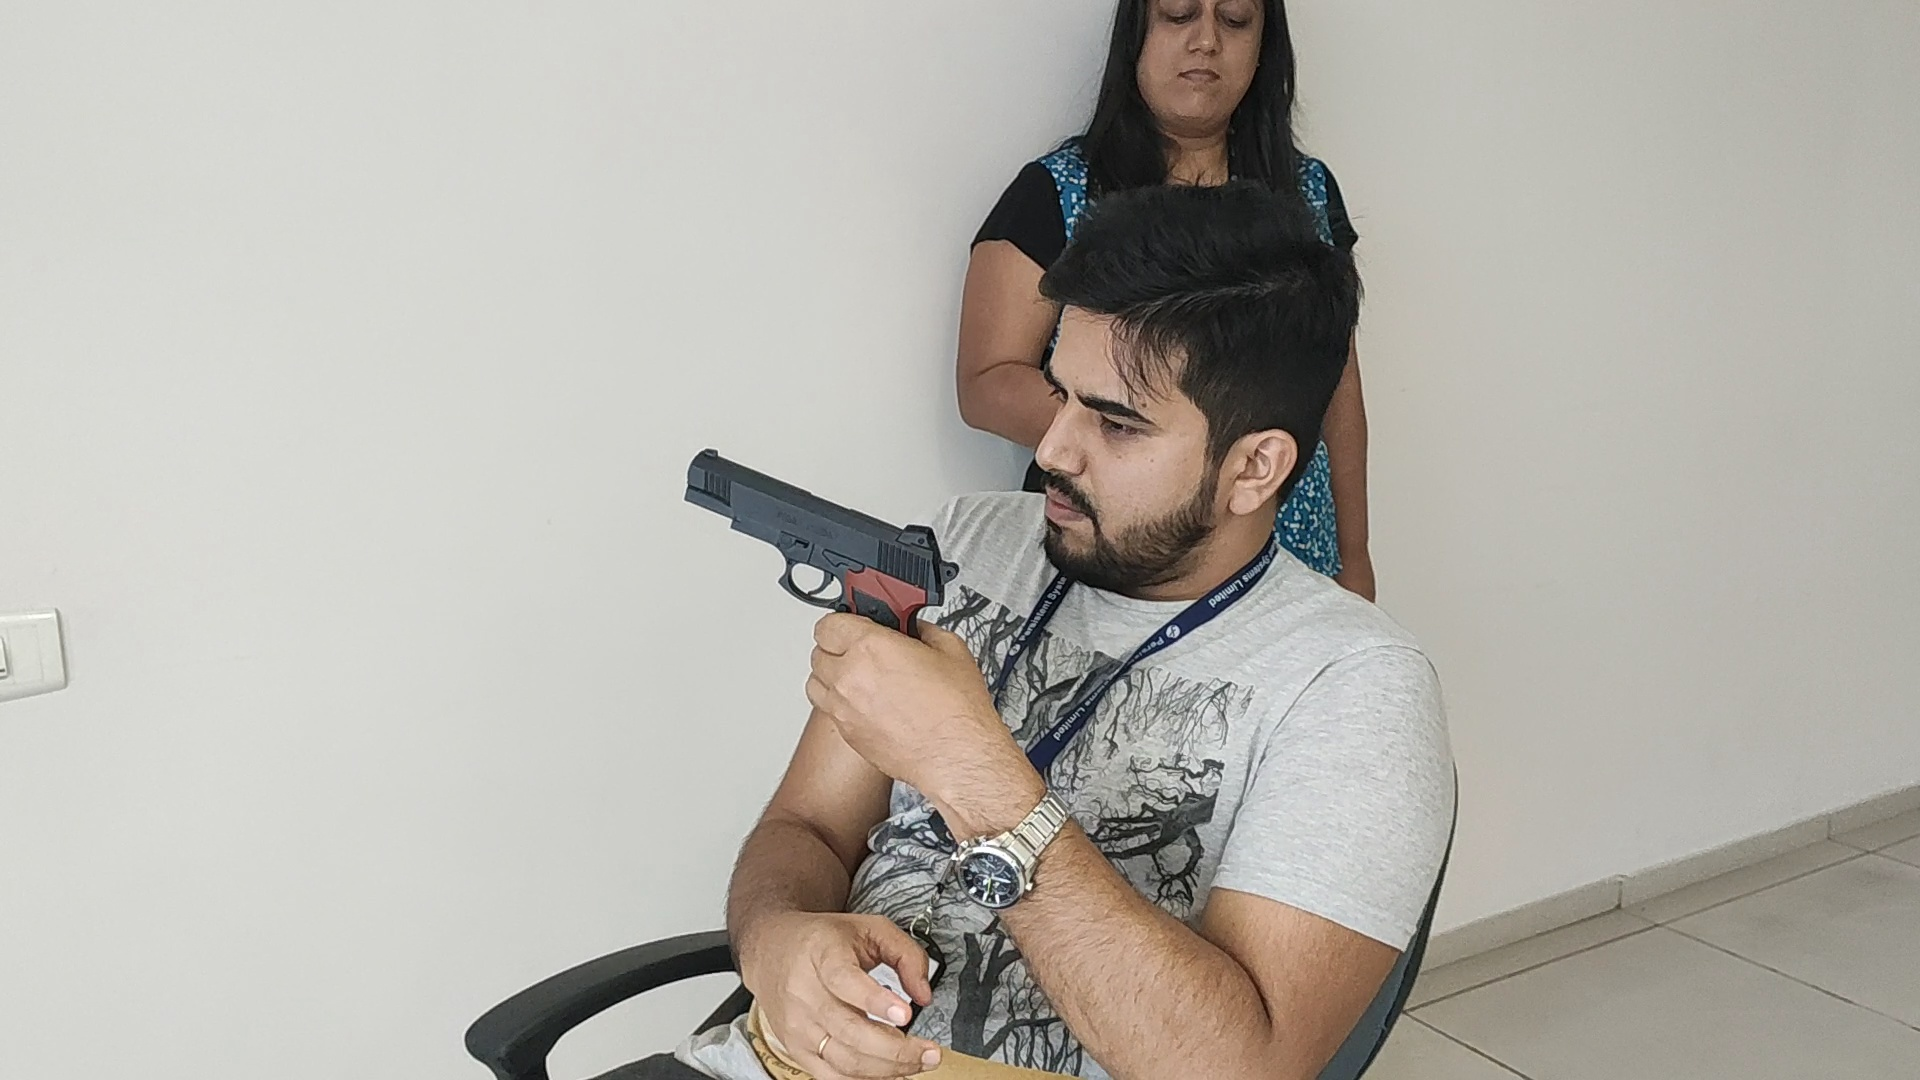gun: (686, 446, 956, 617)
